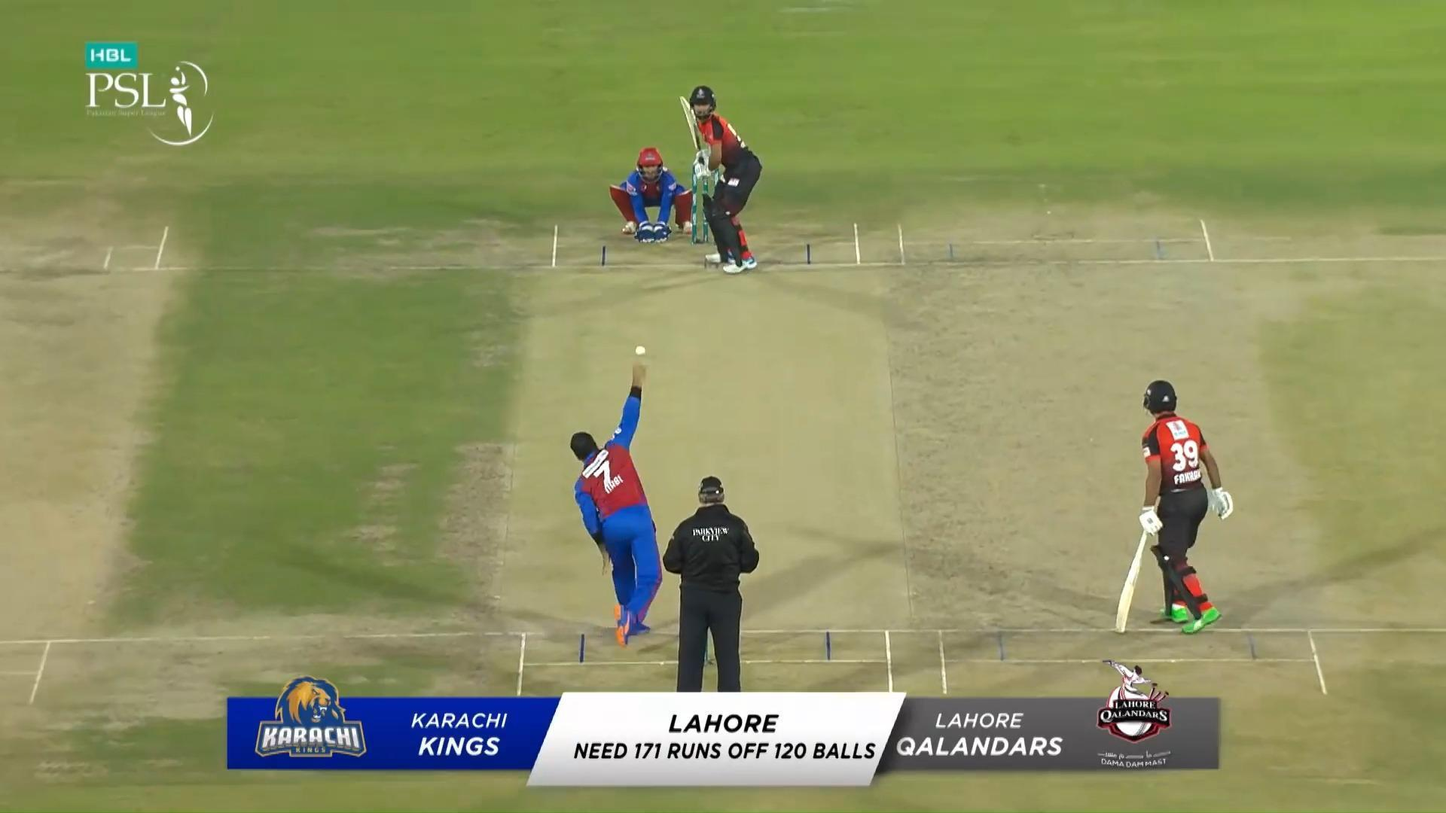BM 1: (678, 85, 764, 274)
BO: (568, 359, 664, 651)
